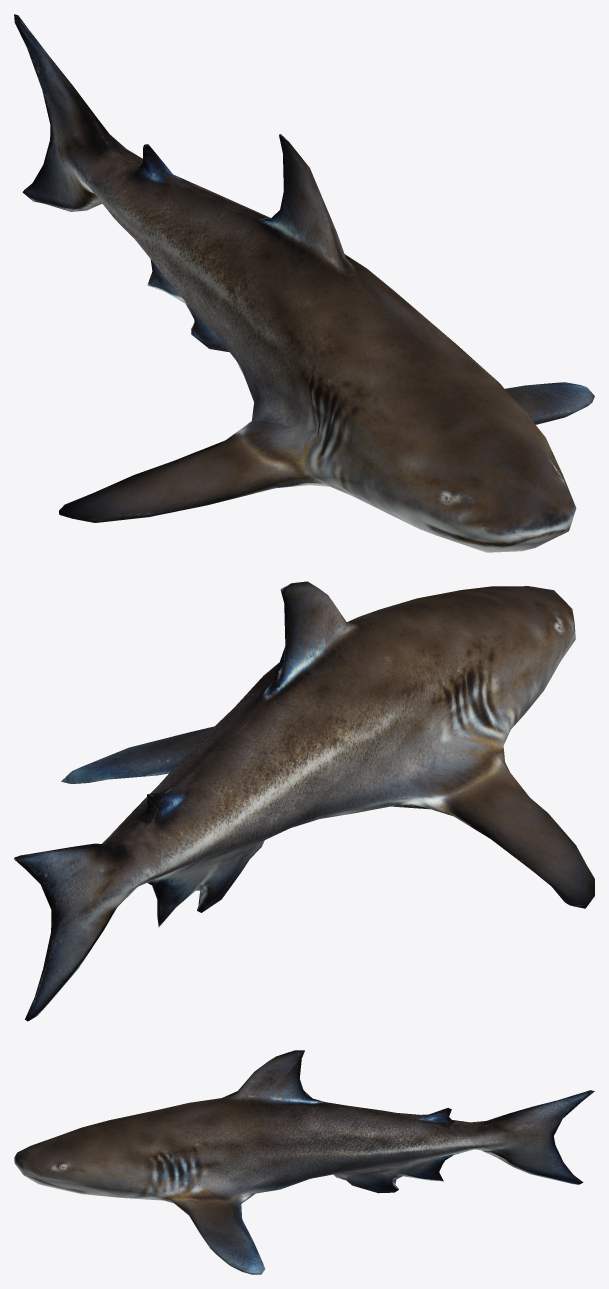
Rendered from uploads_files_5014668_Nurse_Shark_Low_Poly.fbx.
3 views of the same model, one above another, from view 1: azimuth 30°, elevation 25°; view 2: azimuth 150°, elevation 25°; view 3: azimuth 270°, elevation 25° (orthographic). The views are drawn at different scales.
Parts seen in each view (by area): view 1: Nurse_Shark_Low_Poly; view 2: Nurse_Shark_Low_Poly; view 3: Nurse_Shark_Low_Poly.
Part boxes in pixels (left/top/right/bottom): Nurse_Shark_Low_Poly: left=14, top=14, right=594, bottom=552; Nurse_Shark_Low_Poly: left=14, top=581, right=594, bottom=1021; Nurse_Shark_Low_Poly: left=14, top=1050, right=594, bottom=1274.
Bounding box in the file's own units: 155 × 80.75 × 273.
